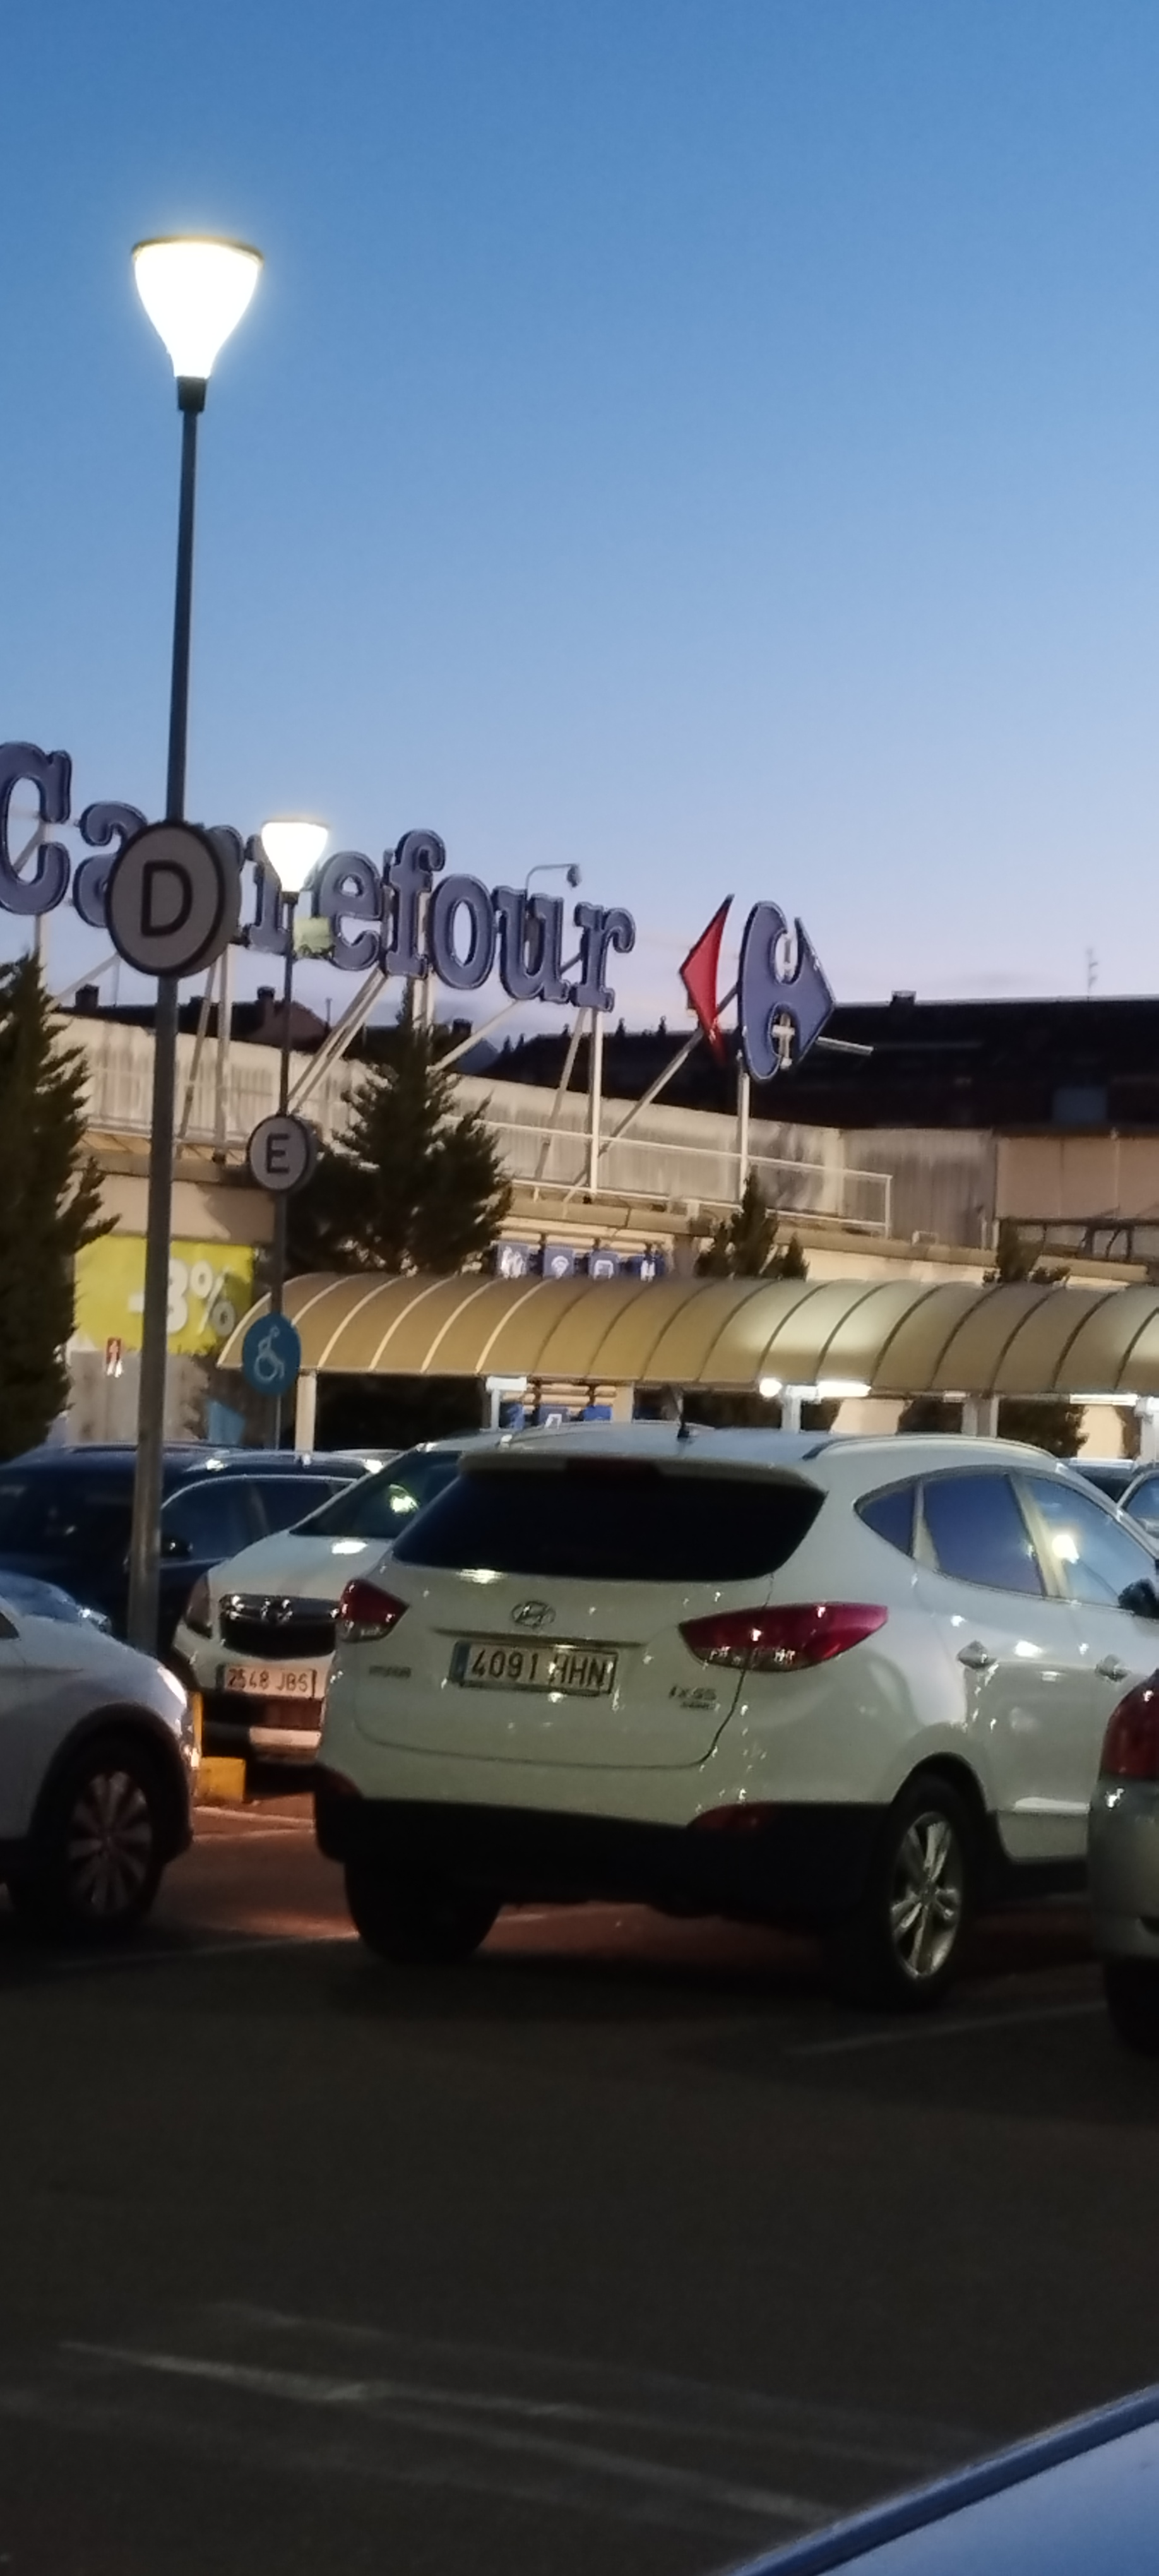Car: (317, 1432, 1158, 1978)
Plate: (455, 1635, 616, 1685)
